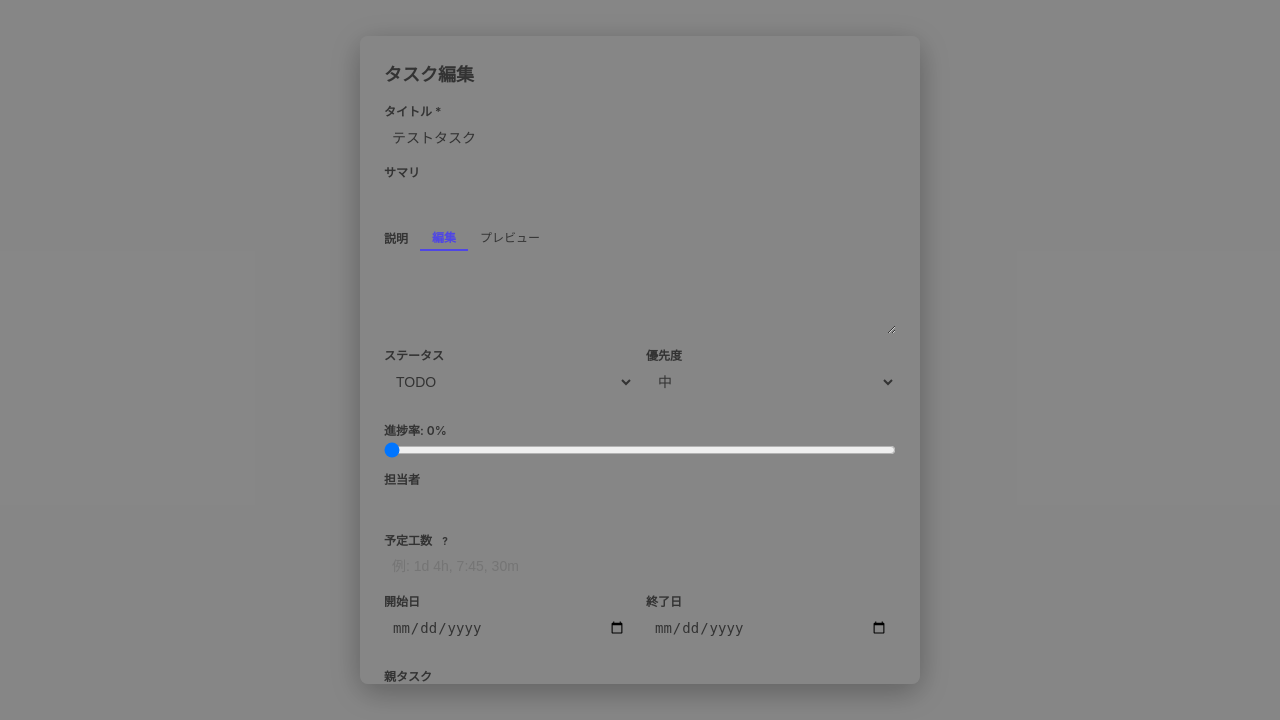
Scenario: TaskModal — 説明フィールドのタブ切り替え › description が空のときプレビューにプレースホルダーが表示される
What coordinates should you click on to do the following:
click the tab "プレビュー"
I would click on:
 (510, 238)
Its box is [468, 224, 552, 251].
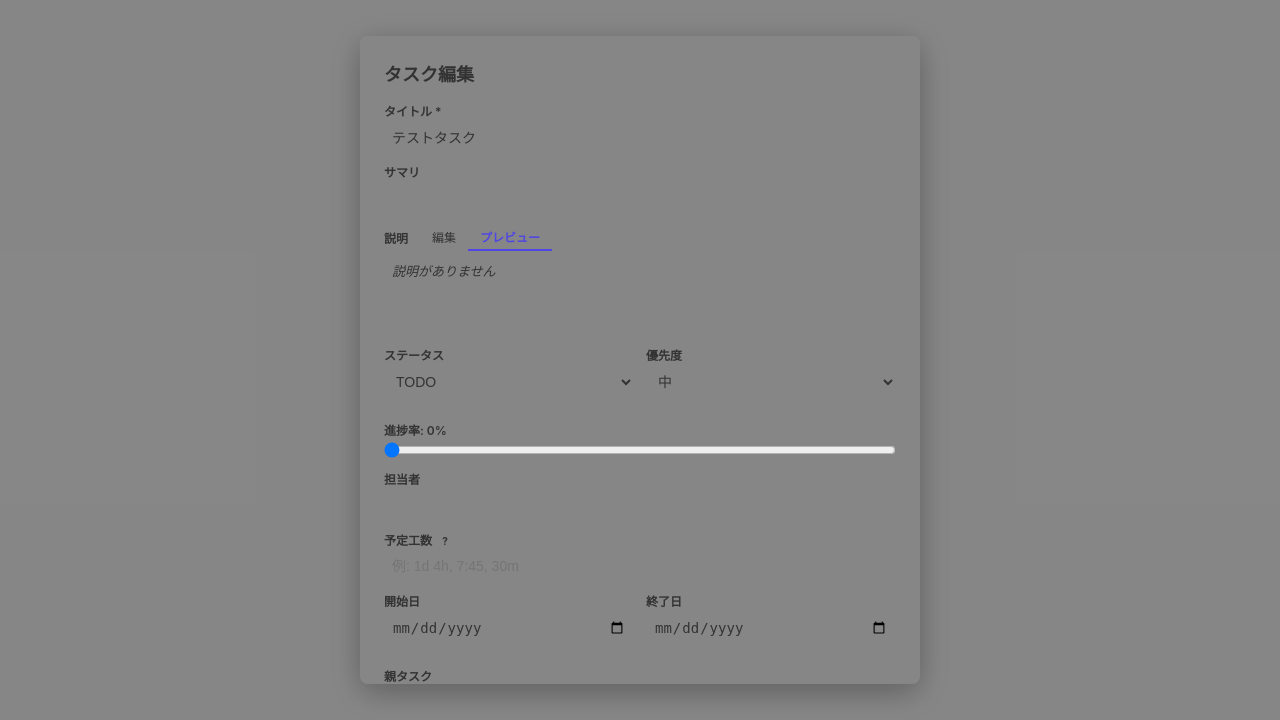
Result: the text "説明がありません" is shown at [392, 263, 496, 279]
